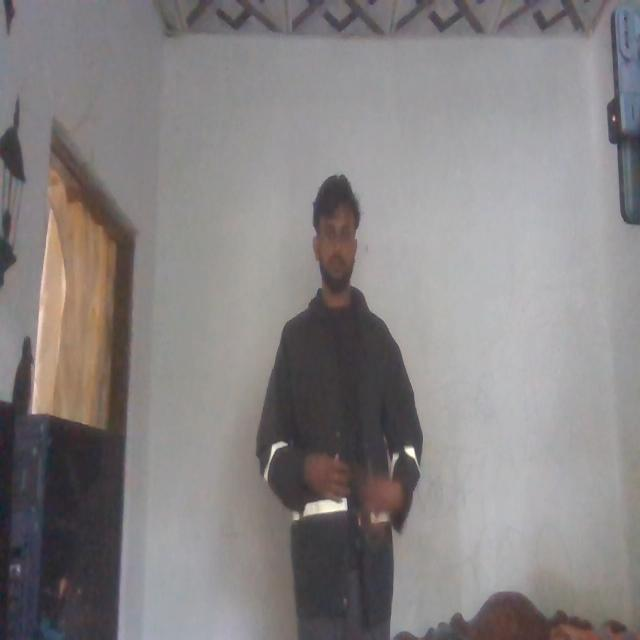Jacket_Wearer: (258, 289, 422, 614)
Person: (252, 166, 428, 640)
